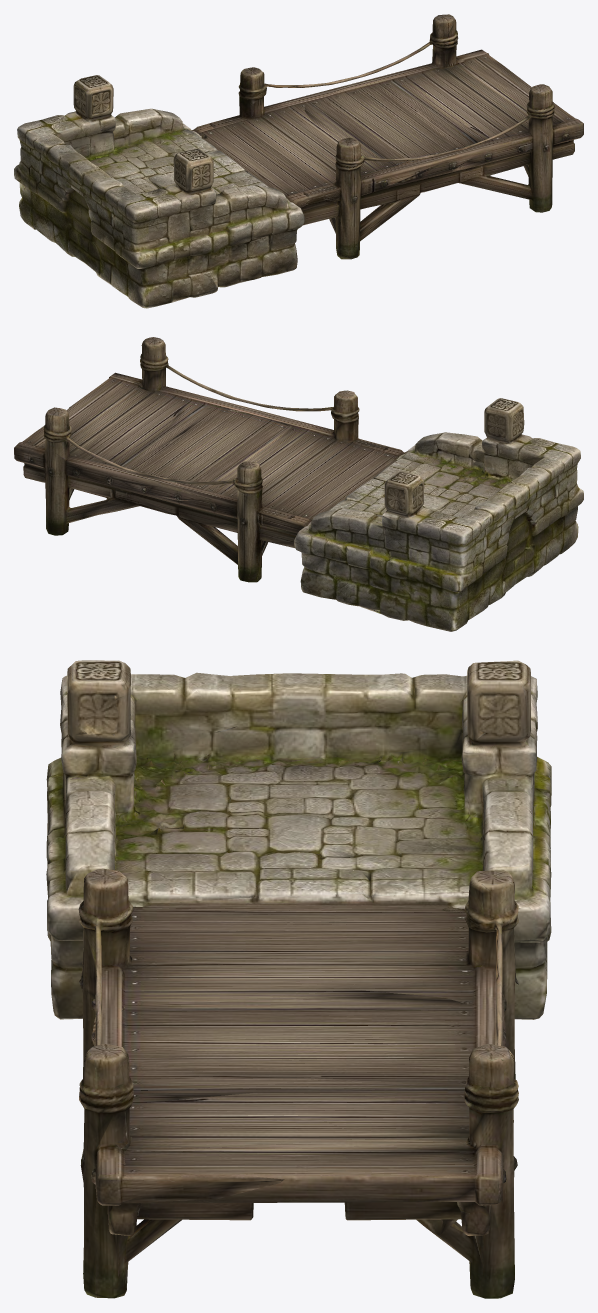
File: kit_stone_footbridge.glb
3 views of the same model, one above another, from view 1: azimuth 30°, elevation 25°; view 2: azimuth 150°, elevation 25°; view 3: azimuth 270°, elevation 25° (orthographic). The views are drawn at different scales.
Parts seen in each view (by area): view 1: Mesh1.0; view 2: Mesh1.0; view 3: Mesh1.0.
Part boxes in pixels (x1,y1,x2,y2): Mesh1.0: (14,14,583,308); Mesh1.0: (14,337,583,631); Mesh1.0: (46,660,551,1298).
Size of the model in its own units: 4.1 by 1.2 by 1.95.
Materials: 1 (1 with a texture image).
